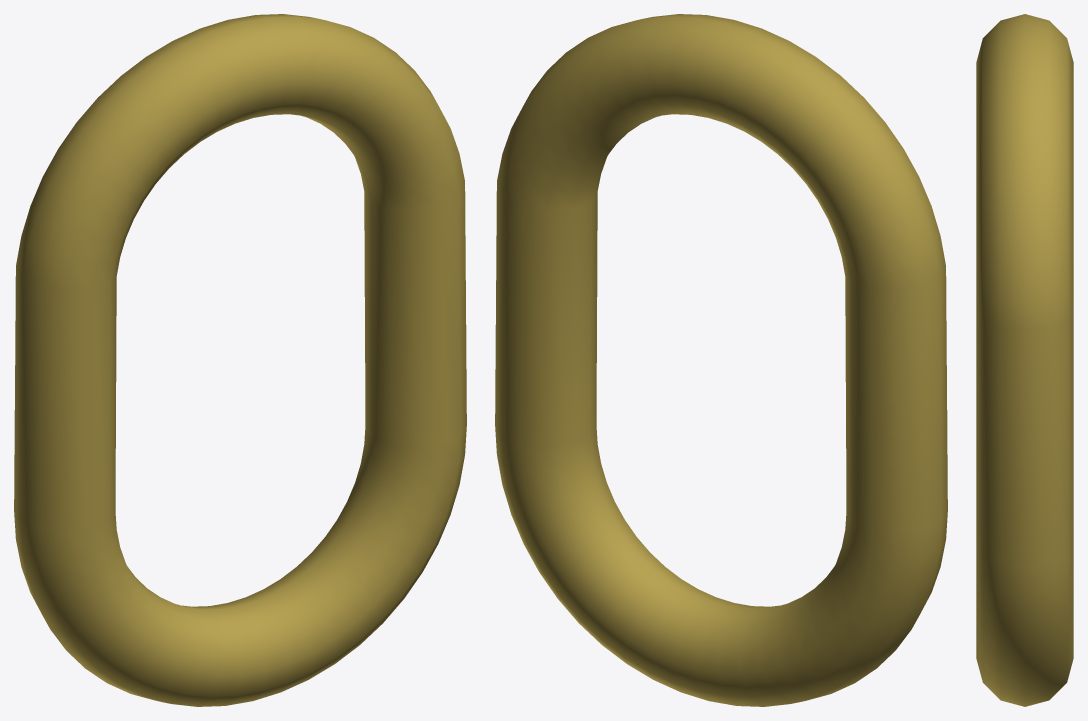
File: swing_chain.fbx
3 renders of one model, left to right at view 1: azimuth 30°, elevation 25°; view 2: azimuth 150°, elevation 25°; view 3: azimuth 270°, elevation 25°, orthographic. The views are drawn at different scales.
Visible parts, largest first — view 1: Torus; view 2: Torus; view 3: Torus.
Part boxes in pixels (box(x1,y1,x2,y2)): Torus: box(14, 14, 466, 706); Torus: box(495, 14, 947, 706); Torus: box(976, 14, 1073, 706).
Size of the model in its own units: 78.37 by 115 by 15.67.
